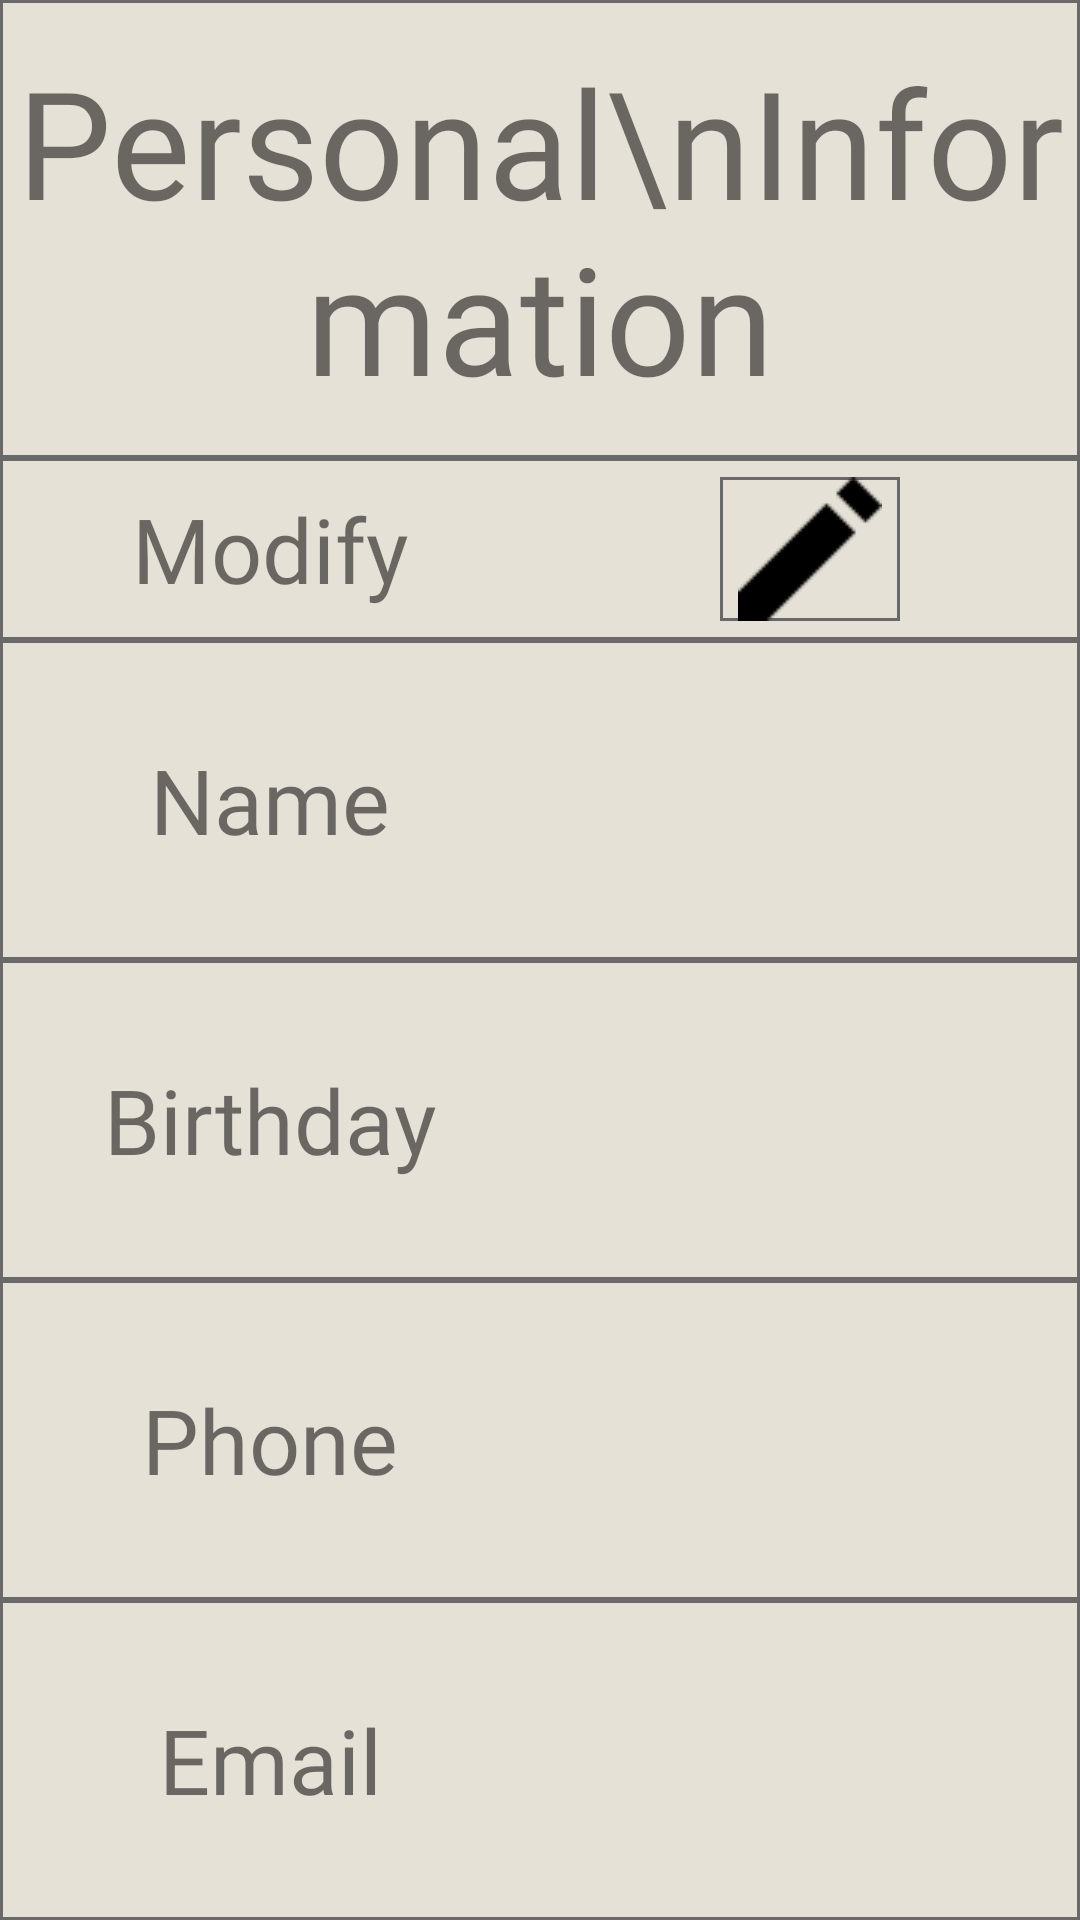

Point at icon controls on the screen. Image size 1080x1920, points as [x,y].
pencil: [810,549]
